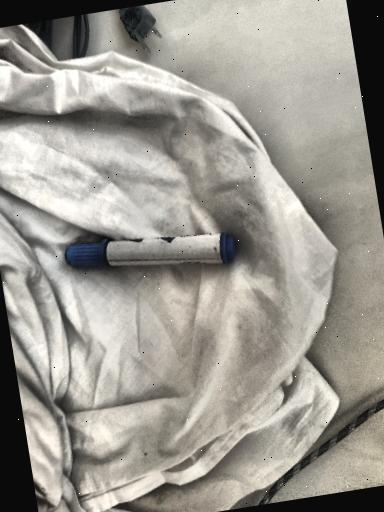marcador azul: (65, 232, 236, 266)
